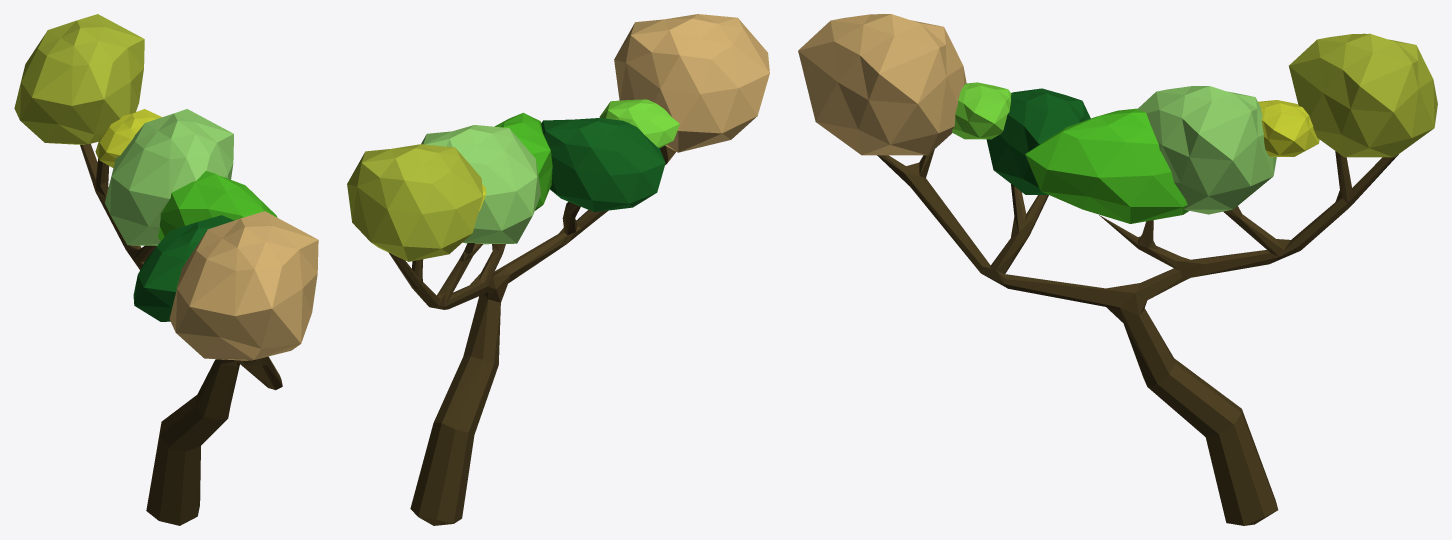
Rendered from Tree.fbx.
3 renders of one model, left to right at view 1: azimuth 30°, elevation 25°; view 2: azimuth 150°, elevation 25°; view 3: azimuth 270°, elevation 25°, orthographic. The views are drawn at different scales.
Parts seen in each view (by area): view 1: Cube; view 2: Cube; view 3: Cube.
Part boxes in pixels (box(x1,y1,x2,y2)): Cube: box(14, 14, 318, 525); Cube: box(347, 14, 769, 525); Cube: box(798, 14, 1437, 525).
Bounding box in the file's own units: 185 × 383 × 470.
